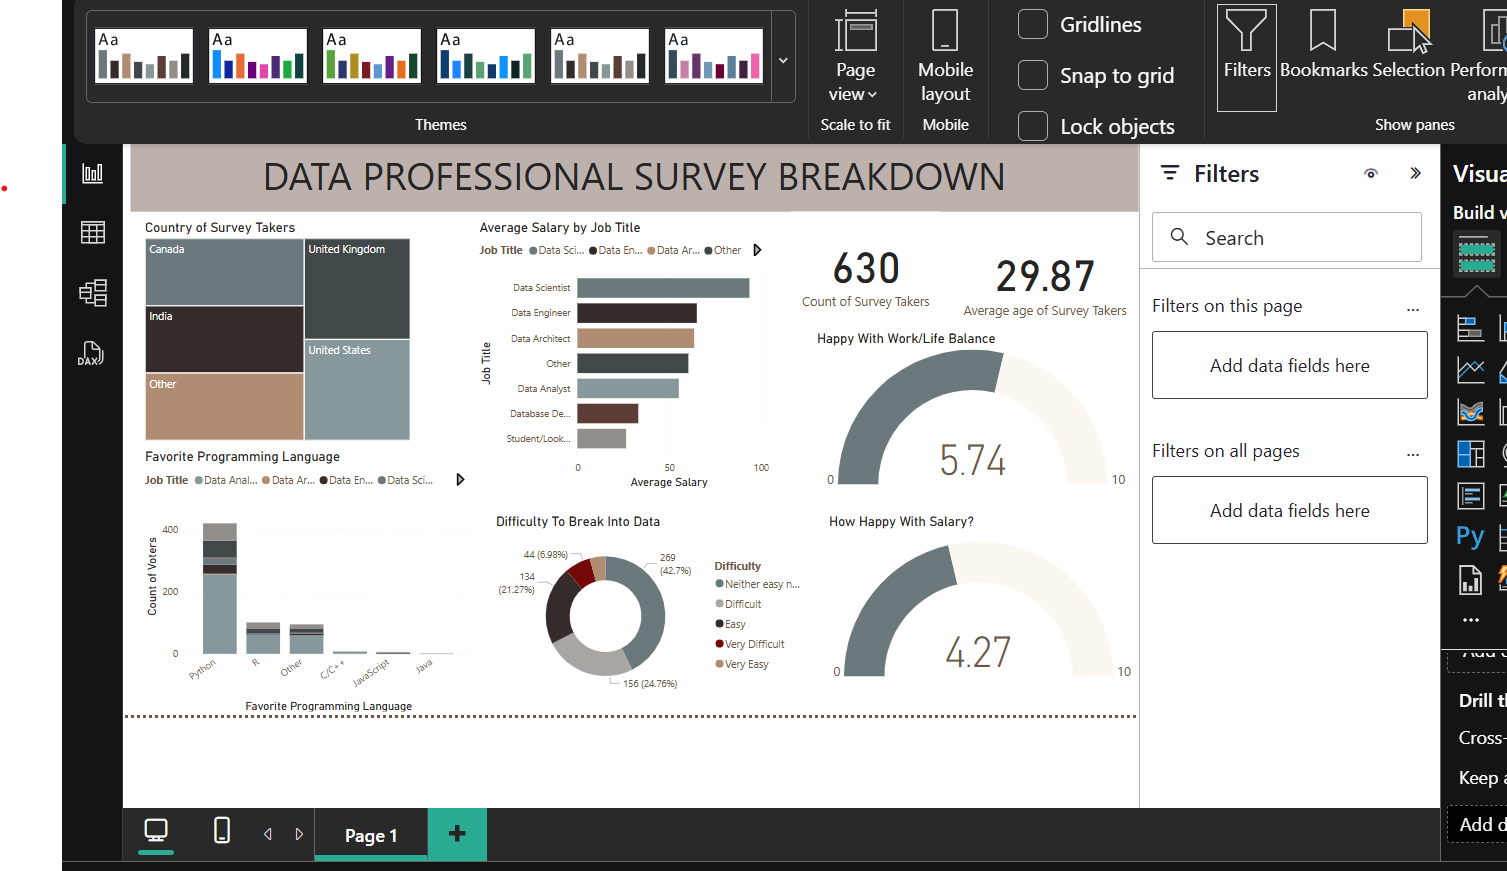

The dashboard page shown, as its layout file describes it:
{"tool":"powerbi","page":{"name":"Page 1","canvas":[1280,720],"ordinal":0},"visuals":[{"type":"textbox","box":[9.4,0,1269.9,85],"z":0},{"type":"card","fields":{"Values":["CountNonNull(Data Professional Survey.Unique ID)"]},"box":[841,85,189,149.3],"z":1},{"type":"card","fields":{"Values":["Avg(Data Professional Survey.Q10 - Current Age)"]},"box":[1043.2,94.5,236.2,151.2],"z":2},{"type":"barChart","title":"Average Salary by Job Title","fields":{"Category":["Data Professional Survey.Q1 - Which Title Best Fits your Current Role?.1"],"Y":["Avg(Data Professional Survey.Average Salary)"],"Series":["Data Professional Survey.Q1 - Which Title Best Fits your Current Role?.1"]},"box":[444.1,94.5,374.2,343.9],"z":3},{"type":"columnChart","title":"Favorite Programming Language","fields":{"Category":["Data Professional Survey.Q5 - Favorite Programming Language.1"],"Y":["CountNonNull(Data Professional Survey.Unique ID)"],"Series":["Data Professional Survey.Q1 - Which Title Best Fits your Current Role?.1"]},"box":[22.7,383.6,421.4,336.4],"z":4},{"type":"treemap","title":"Country of Survey Takers","fields":{"Group":["Data Professional Survey.Q11 - Which Country do you live in?.1"],"Values":["Count(Data Professional Survey.Q11 - Which Country do you live in?.1)"]},"box":[22.7,94.5,343.9,283.5],"z":5},{"type":"gauge","title":"Happy With Work/Life Balance","fields":{"Y":["Avg(Data Professional Survey.Q6 - How Happy are you in your Current Position with the following? (Work/Life Balance))"],"MinValue":["Min(Data Professional Survey.Q6 - How Happy are you in your Current Position with the following? (Work/Life Balance))1"],"MaxValue":["Max(Data Professional Survey.Q6 - How Happy are you in your Current Position with the following? (Work/Life Balance))2"]},"box":[869.3,234.3,410.1,204.1],"z":6},{"type":"gauge","title":"How Happy With Salary?","fields":{"Y":["Avg(Data Professional Survey.Q6 - How Happy are you in your Current Position with the following? (Salary))"],"MinValue":["Min(Data Professional Survey.Q6 - How Happy are you in your Current Position with the following? (Salary))"],"MaxValue":["Max(Data Professional Survey.Q6 - How Happy are you in your Current Position with the following? (Salary))"]},"box":[884.4,464.9,395,226.8],"z":7},{"type":"donutChart","title":"Difficulty To Break Into Data","fields":{"Category":["Data Professional Survey.Q7 - How difficult was it for you to break into Data?"],"Y":["CountNonNull(Data Professional Survey.Q7 - How difficult was it for you to break into Data?)"]},"box":[464.9,464.9,404.4,240],"z":8}]}

Visuals, with their boxes on the page's 1280x720 design canvas (x1, y1, x2, y2). These are canvas units, not pixel positions in the 1507x871 screenshot, which may show the page scaled, cropped or inside an application window:
textbox: box(9, 0, 1279, 85)
card - CountNonNull(Data Professional Survey.Unique ID): box(841, 85, 1030, 234)
card - Avg(Data Professional Survey.Q10 - Current Age): box(1043, 94, 1279, 246)
"Average Salary by Job Title" barChart: box(444, 94, 818, 438)
"Favorite Programming Language" columnChart: box(23, 384, 444, 720)
"Country of Survey Takers" treemap: box(23, 94, 367, 378)
"Happy With Work/Life Balance" gauge: box(869, 234, 1279, 438)
"How Happy With Salary?" gauge: box(884, 465, 1279, 692)
"Difficulty To Break Into Data" donutChart: box(465, 465, 869, 705)
